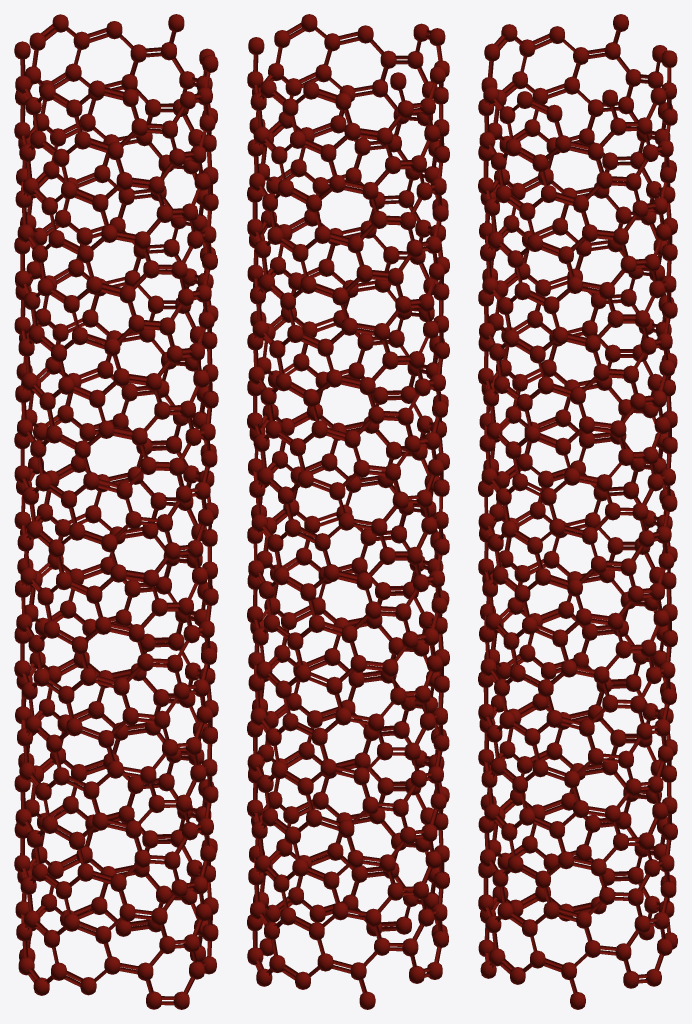
The model's file is fulleretube.obj.
3 views of the same model, side by side, from view 1: azimuth 30°, elevation 25°; view 2: azimuth 150°, elevation 25°; view 3: azimuth 270°, elevation 25° (orthographic). The views are drawn at different scales.
Visible parts, largest first — view 1: nanoTube_Sphere; view 2: nanoTube_Sphere; view 3: nanoTube_Sphere.
Part boxes in pixels (box(x1,y1,x2,y2)): nanoTube_Sphere: box(14, 14, 218, 1009); nanoTube_Sphere: box(247, 14, 449, 1009); nanoTube_Sphere: box(478, 14, 677, 1009).
Bounding box in the file's own units: 8.59 × 43.17 × 8.48.
